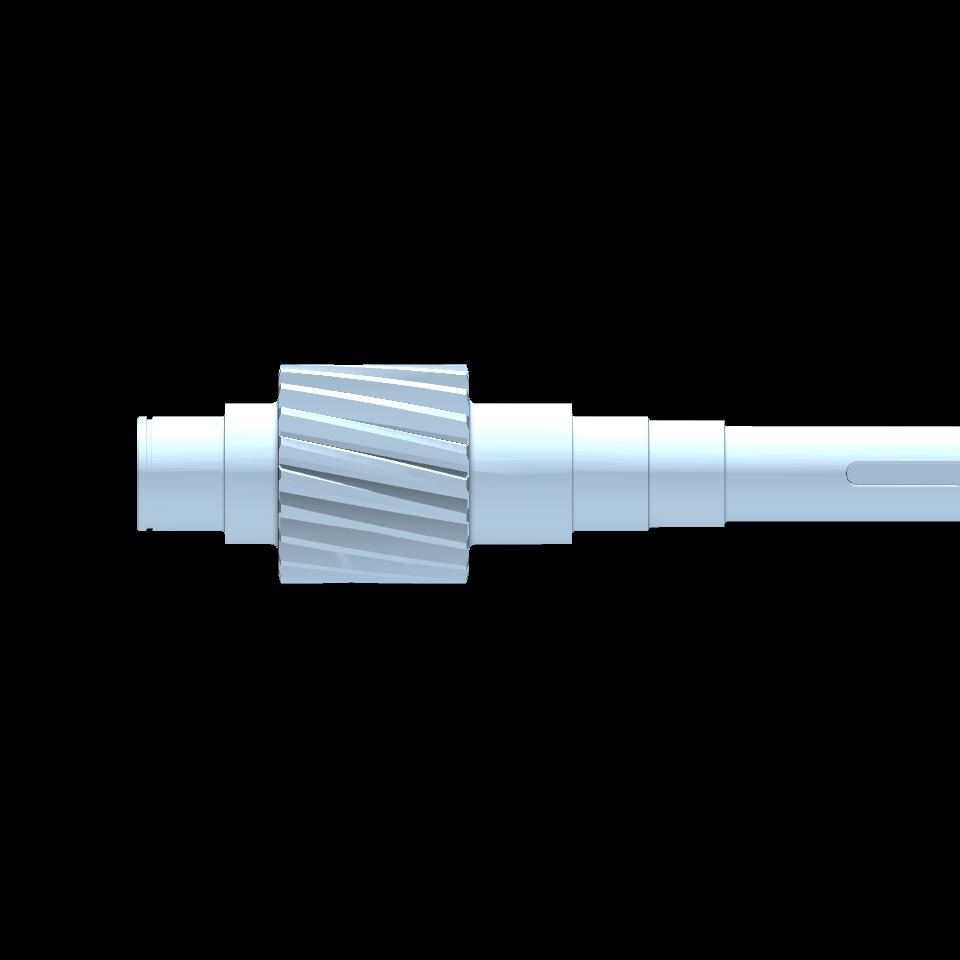Helical: (281, 363, 465, 585)
